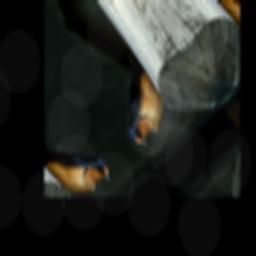Swallow: (79, 30, 180, 151)
